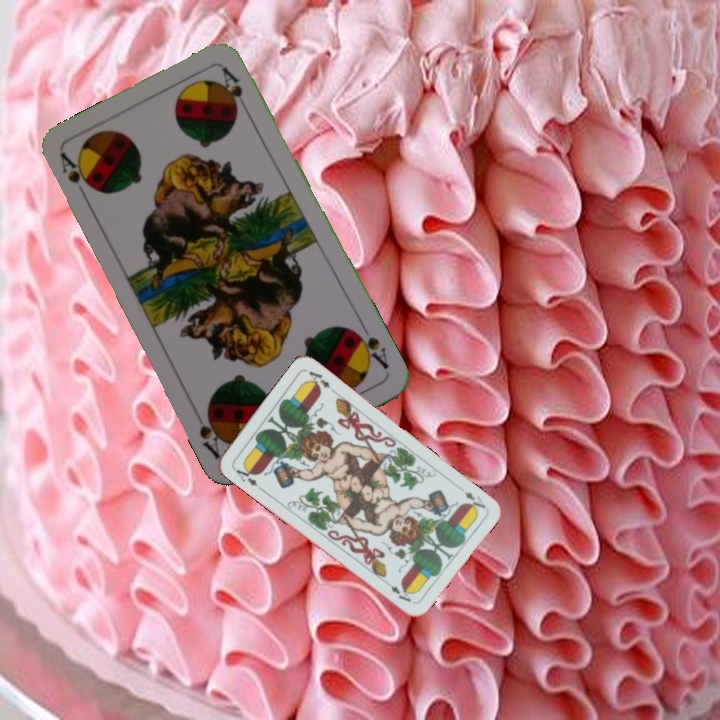EA: (229, 461, 260, 489), (460, 487, 488, 514)
SA: (348, 319, 392, 372), (56, 148, 94, 204)
